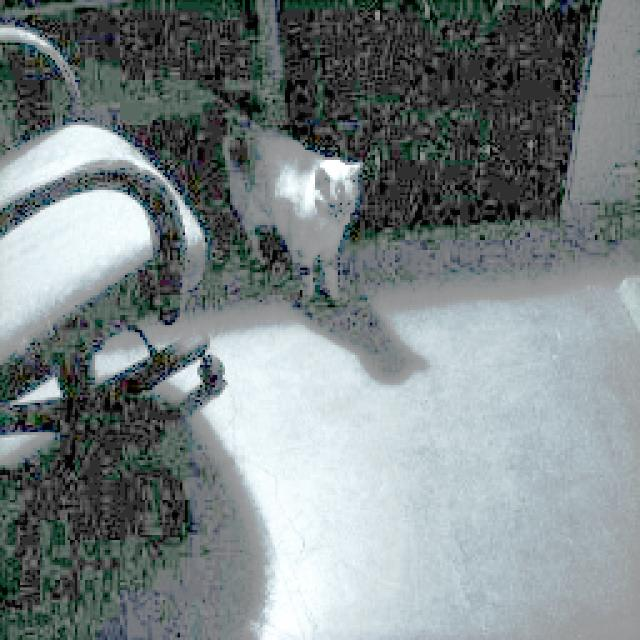cat: (195, 61, 378, 336)
